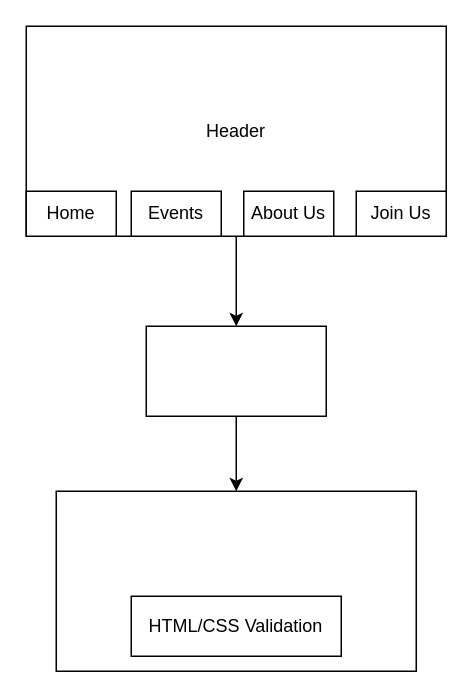
This 473x698 diagram has some shape labels left out. The box of each missing label's shape, as (x1, y1, x2, y2) in pixels:
Footer: (55, 490, 416, 671)
Main: (145, 325, 326, 416)
